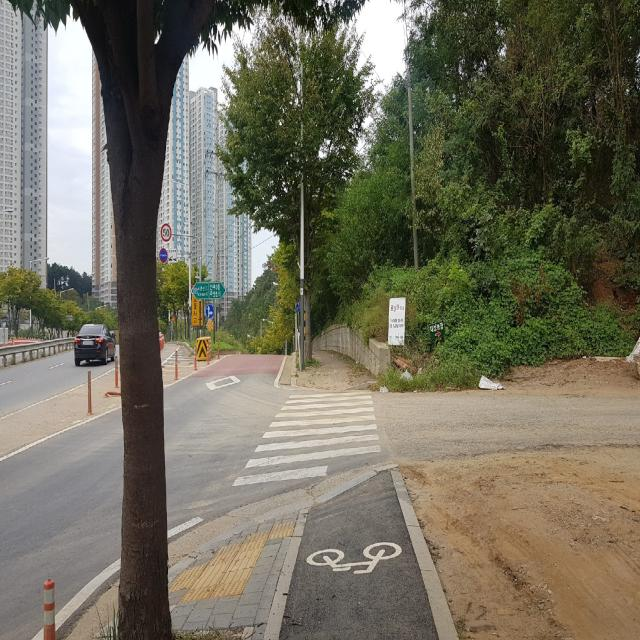횡단보도: (231, 390, 382, 487)
